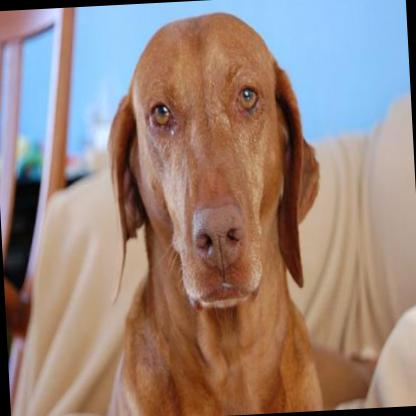vizsla: (80, 0, 379, 416)
